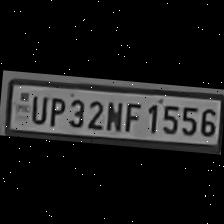1: (140, 100, 160, 134)
2: (84, 95, 106, 130)
3: (64, 94, 86, 128)
5: (158, 100, 180, 134), (178, 101, 200, 134)
6: (196, 103, 219, 136)
F: (122, 98, 142, 131)
N: (102, 96, 124, 132)
P: (46, 92, 66, 125)
U: (26, 92, 48, 124)
